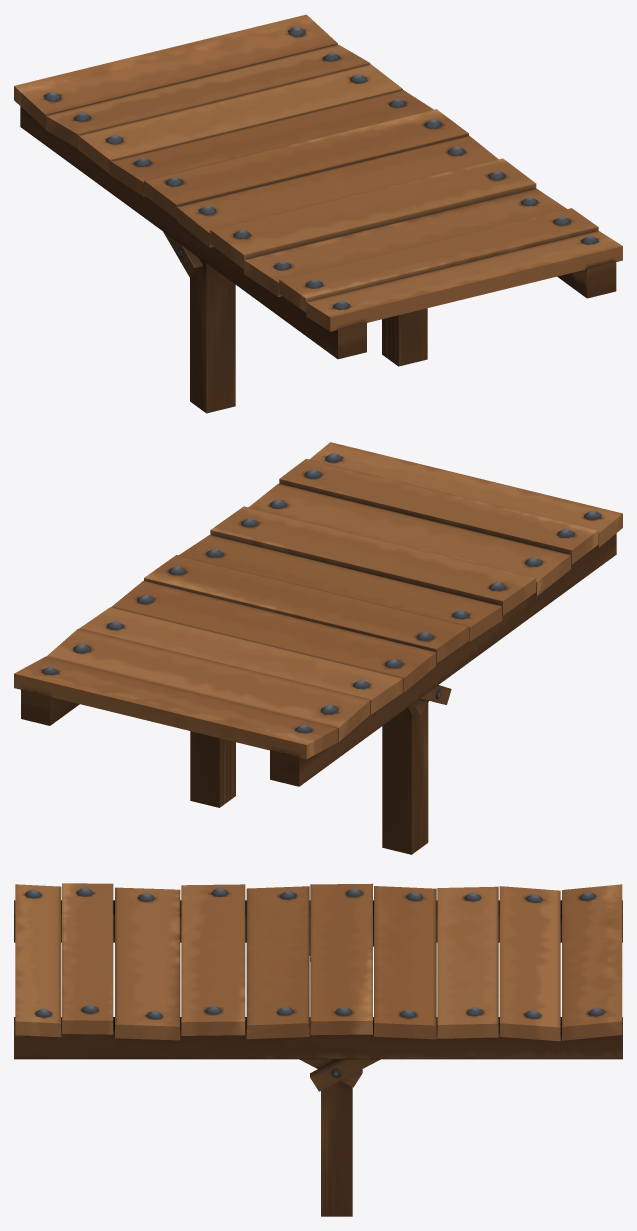
Rendered from Chemin_Pont_Centre.FBX.
3 renders of one model, top to bottom at view 1: azimuth 30°, elevation 25°; view 2: azimuth 150°, elevation 25°; view 3: azimuth 270°, elevation 25°, orthographic. The views are drawn at different scales.
Visible parts, largest first — view 1: Chemin_PontCentre; view 2: Chemin_PontCentre; view 3: Chemin_PontCentre.
Boxes of the visible parts, box(x1,y1,x2,y2) form: Chemin_PontCentre: box(14, 14, 622, 413); Chemin_PontCentre: box(14, 442, 622, 854); Chemin_PontCentre: box(14, 883, 622, 1216).
Size of the model in its own units: 5.32 by 3.97 by 10.
